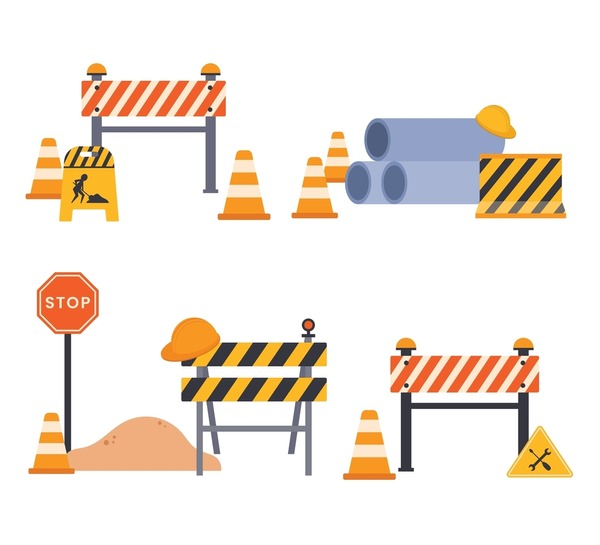Barrier: (19, 265, 332, 502), (13, 60, 273, 230)
